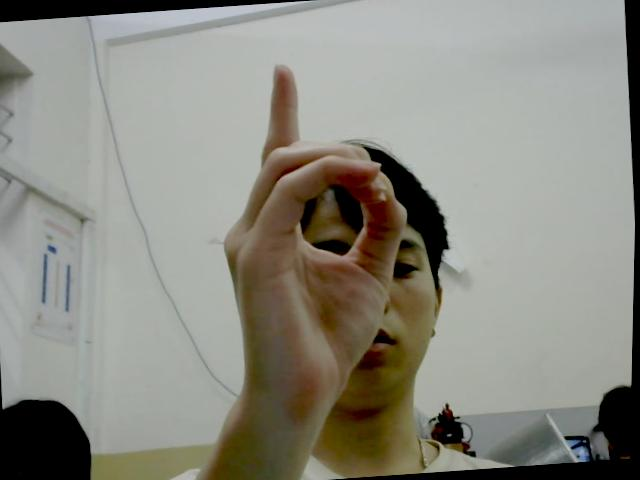D: (208, 51, 424, 401)
